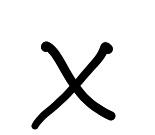mult: (32, 42, 115, 130)
